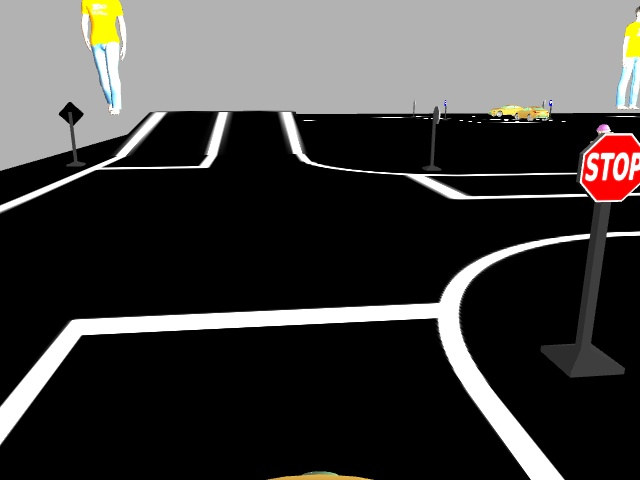Stop: (577, 129, 639, 205)
